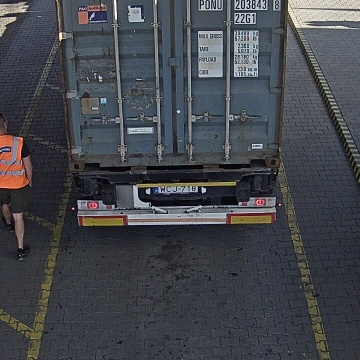serial_id: (199, 0, 279, 10)
